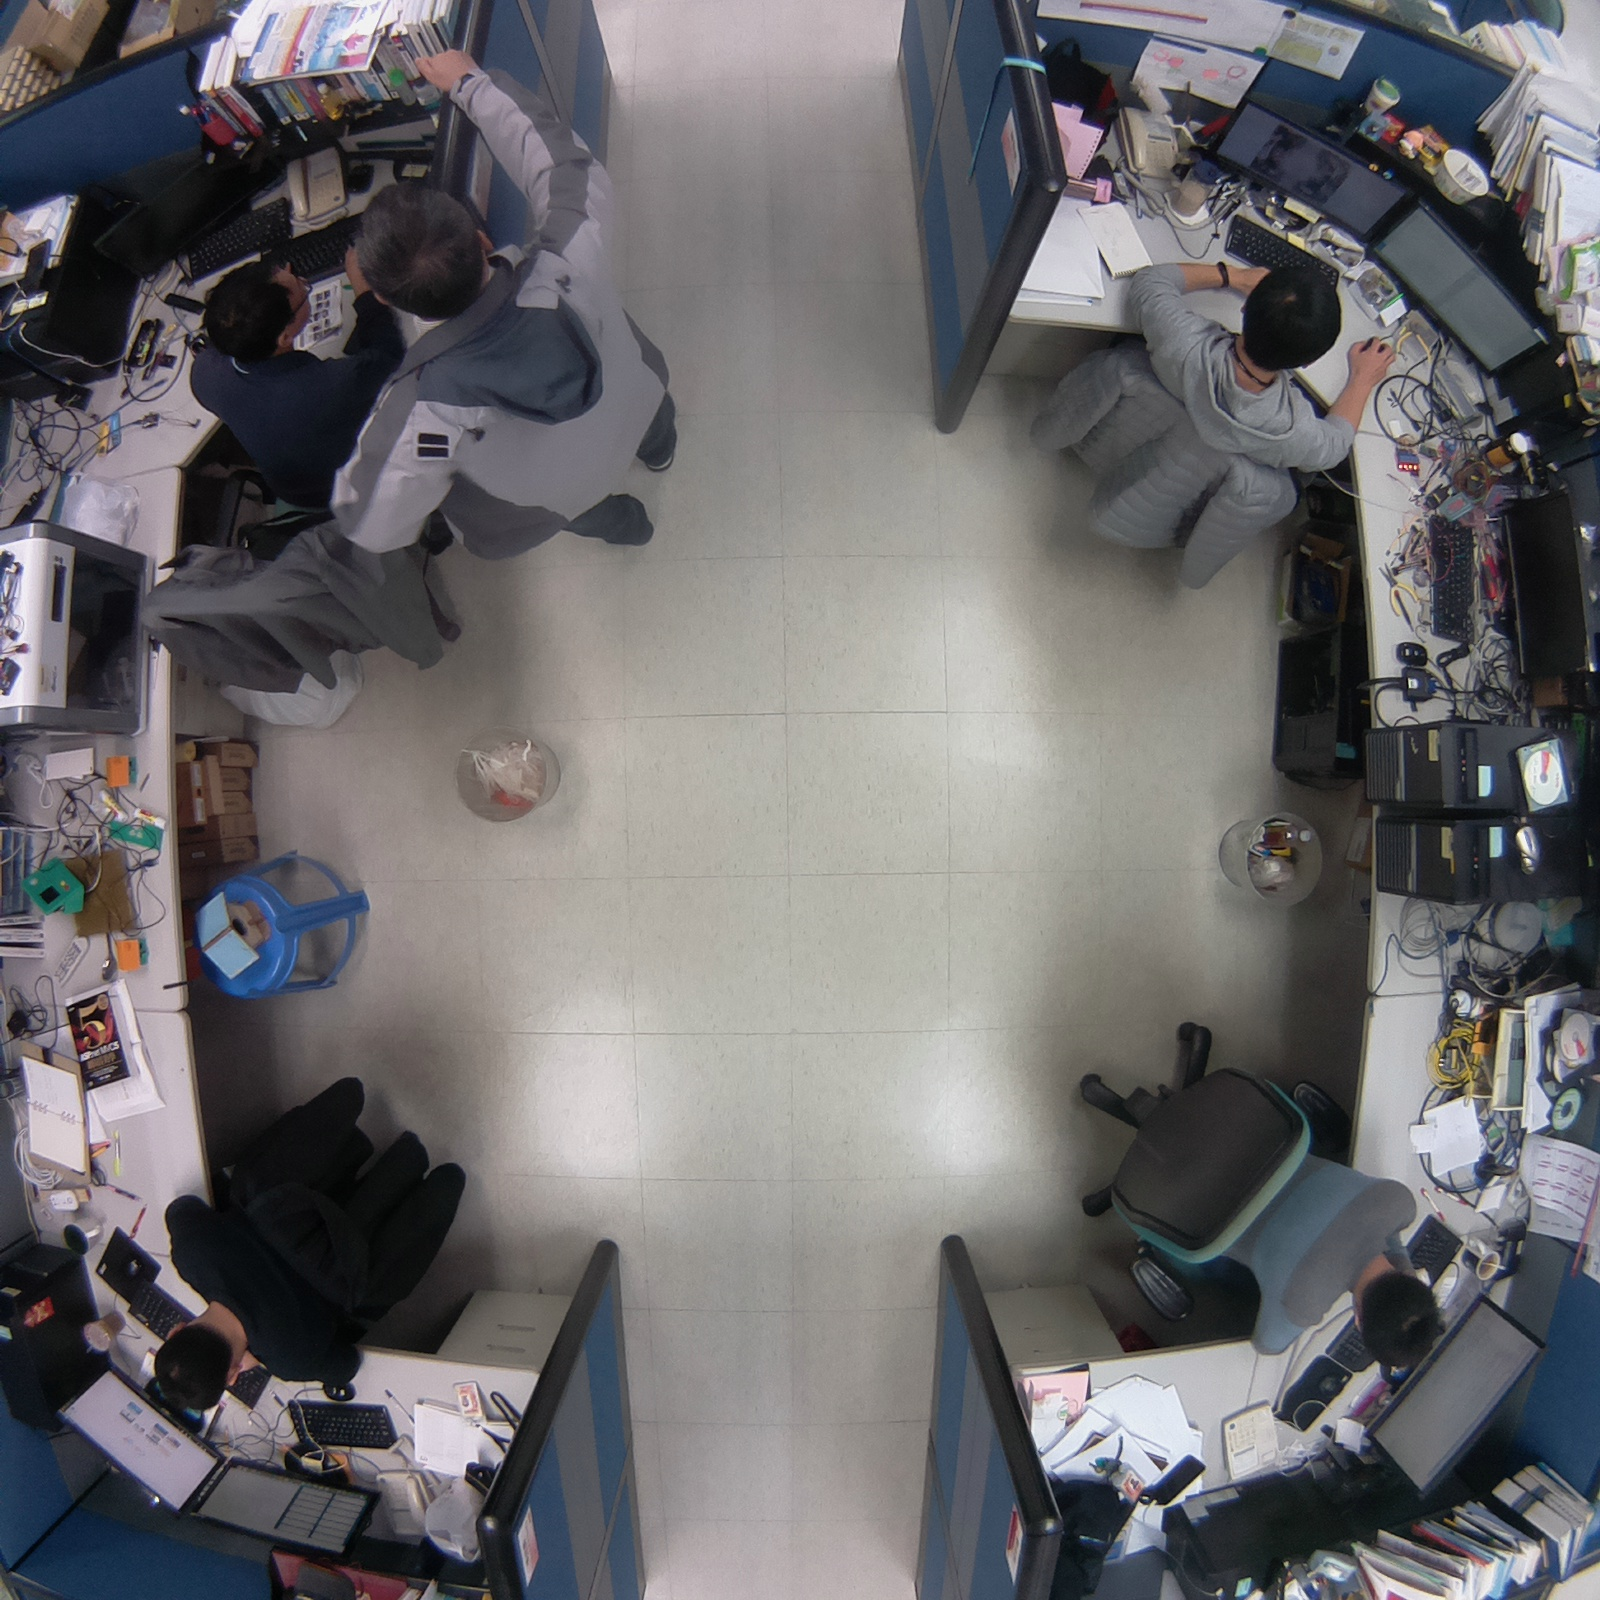head: (351, 182, 500, 327), (1223, 251, 1351, 378), (197, 255, 321, 363), (1349, 1251, 1453, 1376), (149, 1317, 253, 1421)
sitting: (124, 234, 476, 701), (1053, 1001, 1474, 1389), (1006, 234, 1403, 606), (130, 1050, 501, 1427)
standing: (326, 17, 701, 583)
